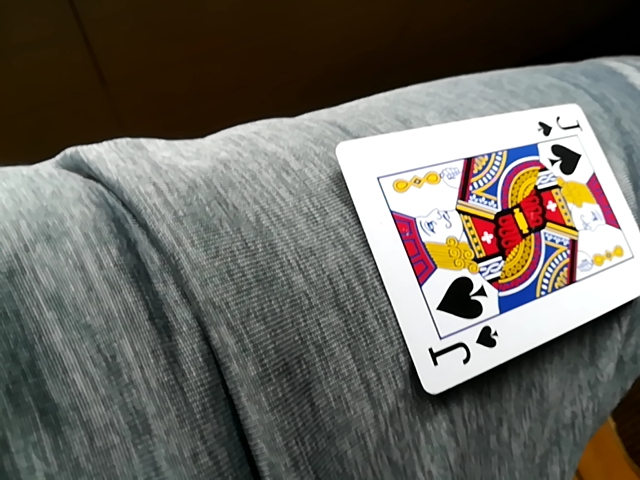ht j: (336, 99, 640, 397)
